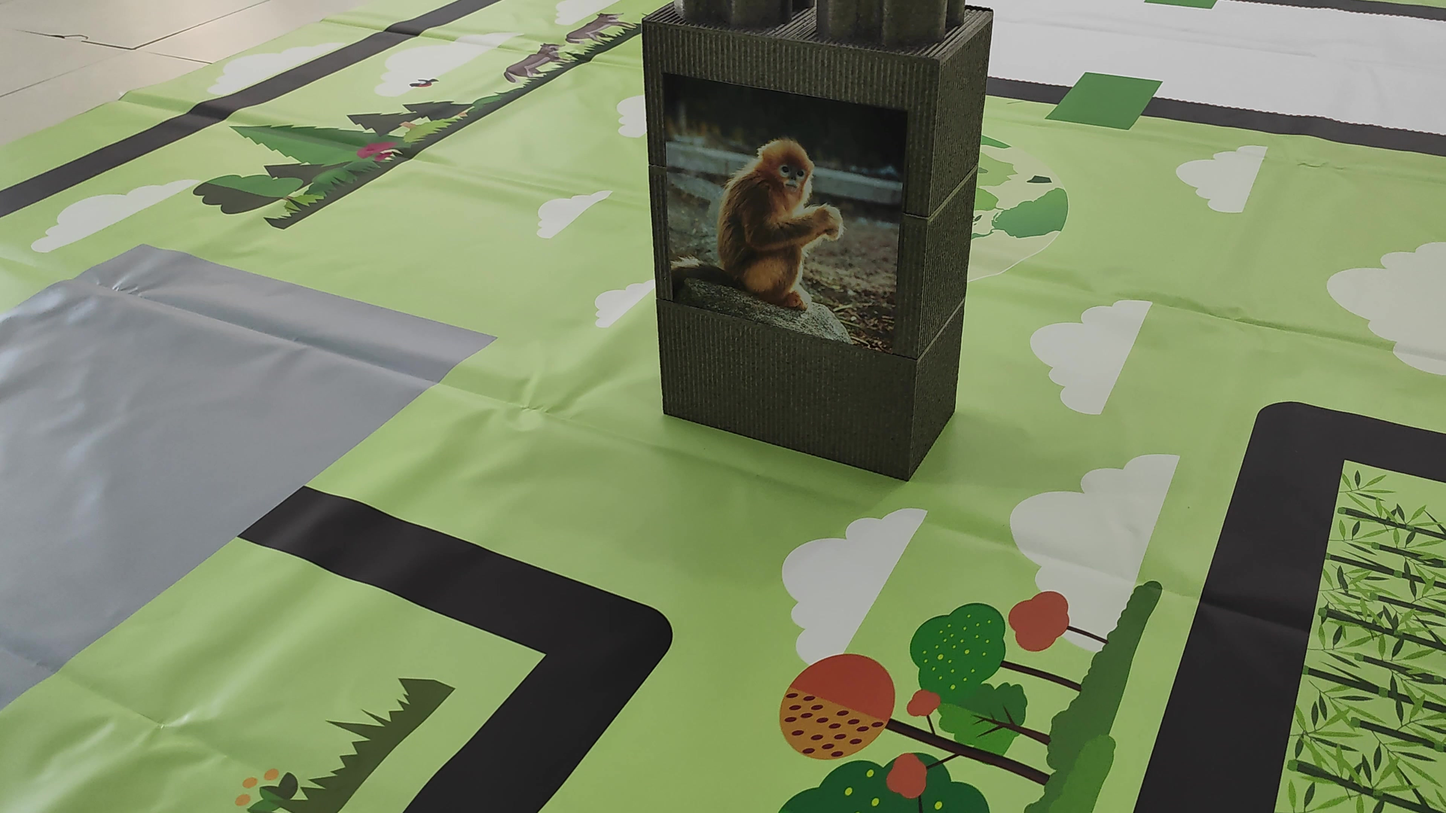monkey: (666, 104, 876, 331)
